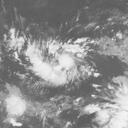cyclone: (38, 42, 88, 85)
